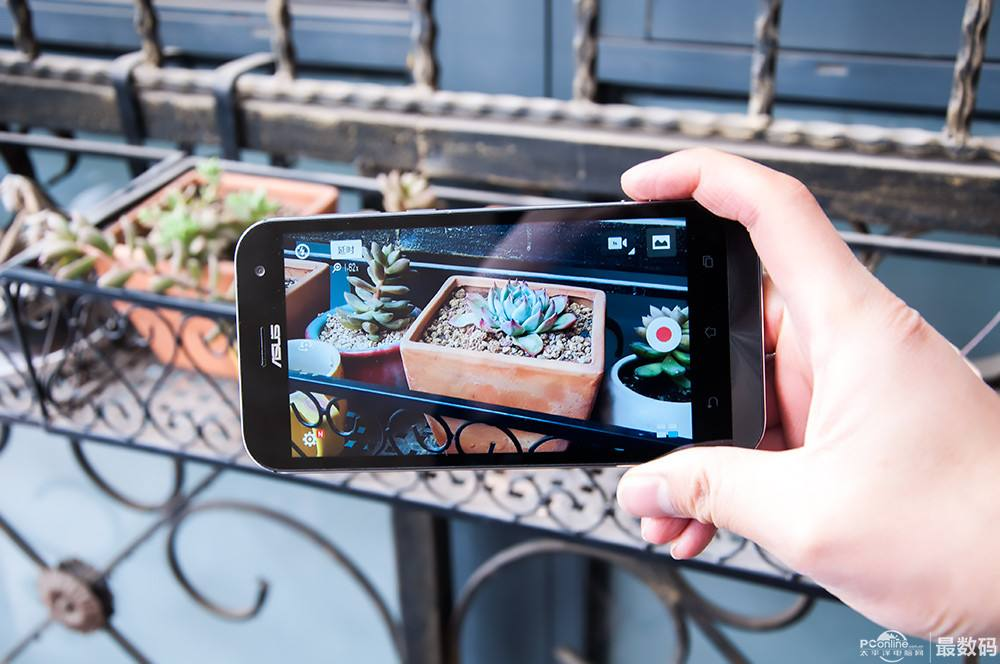taking photos: (226, 142, 994, 634)
